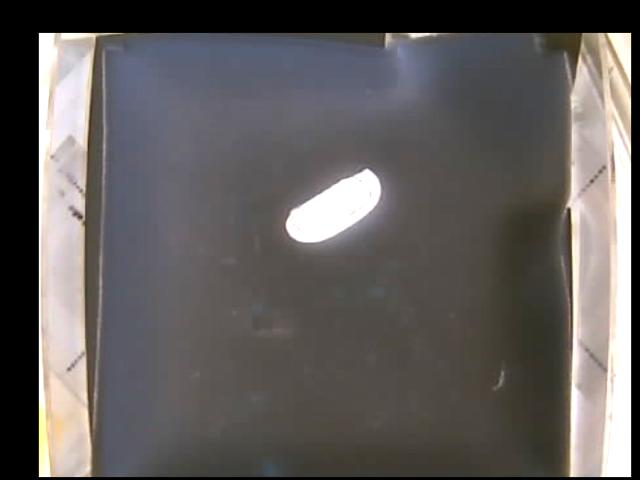Pebble: (287, 167, 380, 242)
